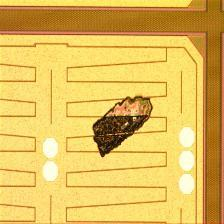PARTICLE: (92, 95, 156, 160)
